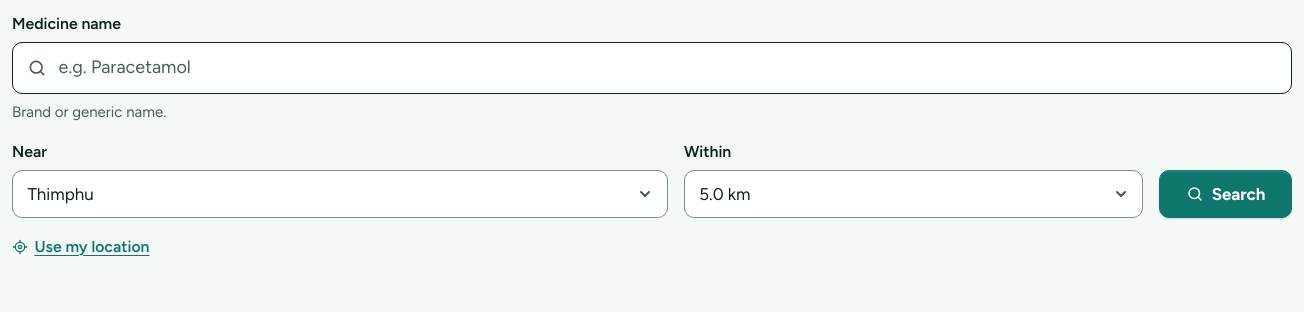
Scenario: SearchForm: using the device location › says it is finding the location while it waits, and cannot be clicked twice
Click the button "Use my location". click: (92, 246)
box: x1=12 y1=225 x2=668 y2=269
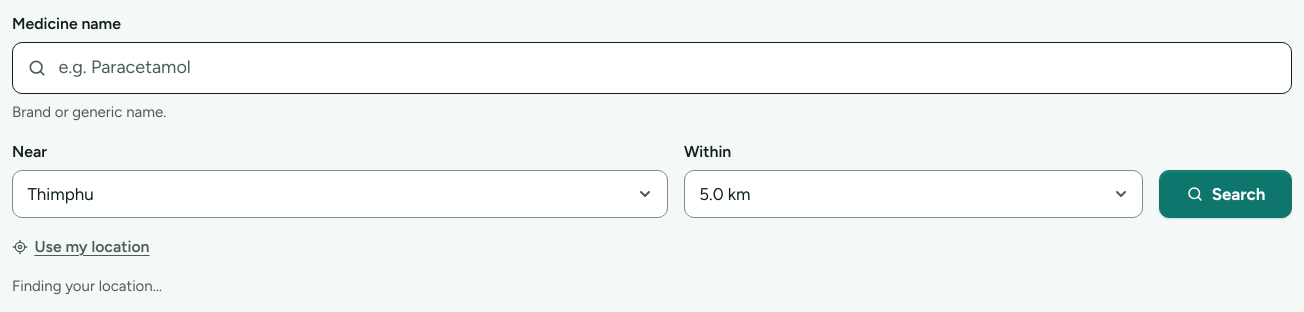
Expected: the button "Use my location" is disabled, x1=12 y1=225 x2=668 y2=269
